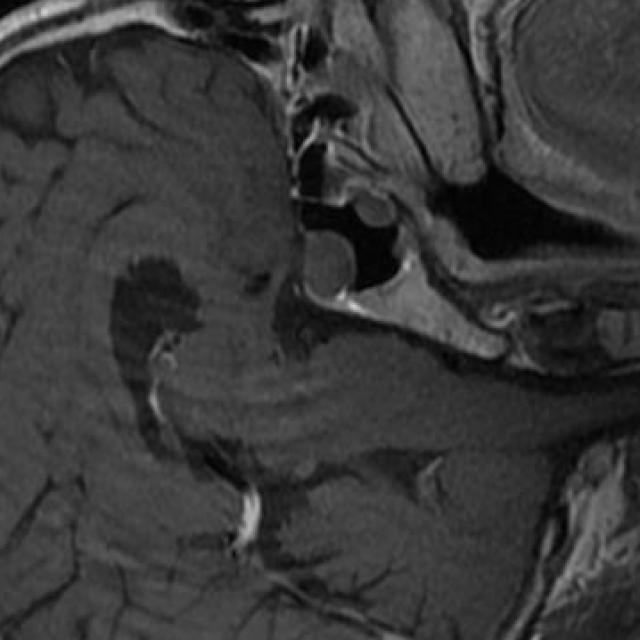pituitary: (305, 230, 357, 299)
